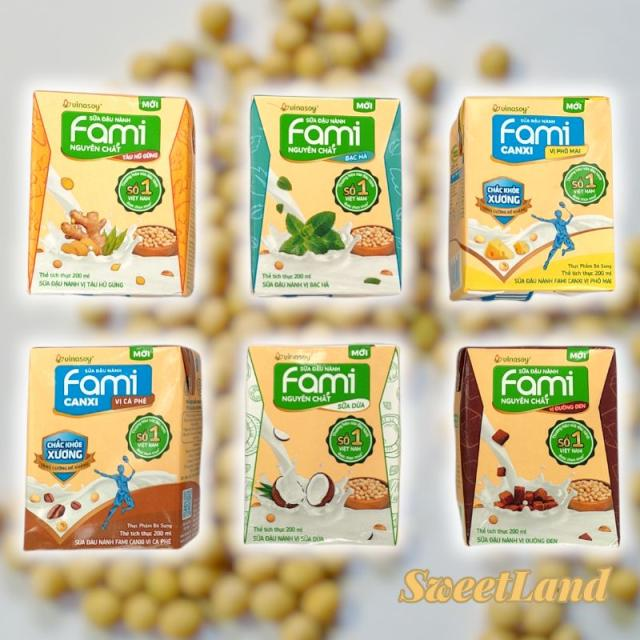Fami: (24, 346, 203, 550), (30, 94, 203, 302), (450, 97, 614, 303), (247, 341, 404, 548), (457, 347, 620, 546), (252, 94, 405, 298)
